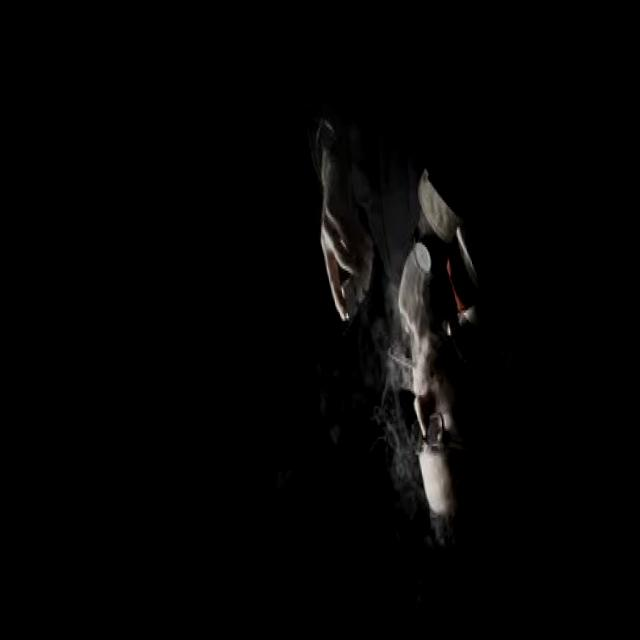smoke: (384, 340, 420, 374)
